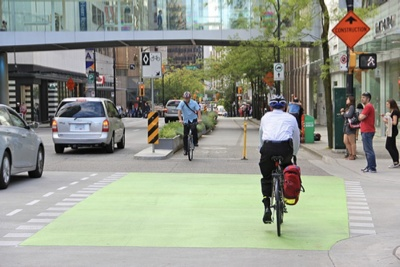helmet: (269, 90, 288, 114)
